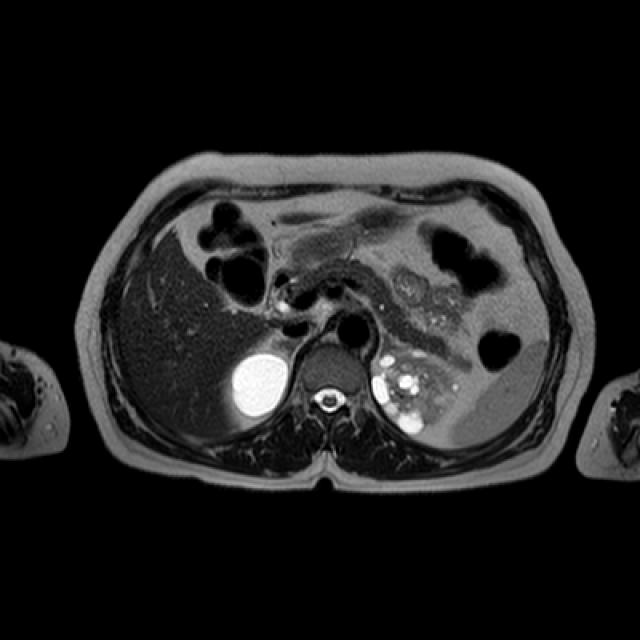sag: (231, 344, 286, 421)
sol: (369, 347, 462, 435)
